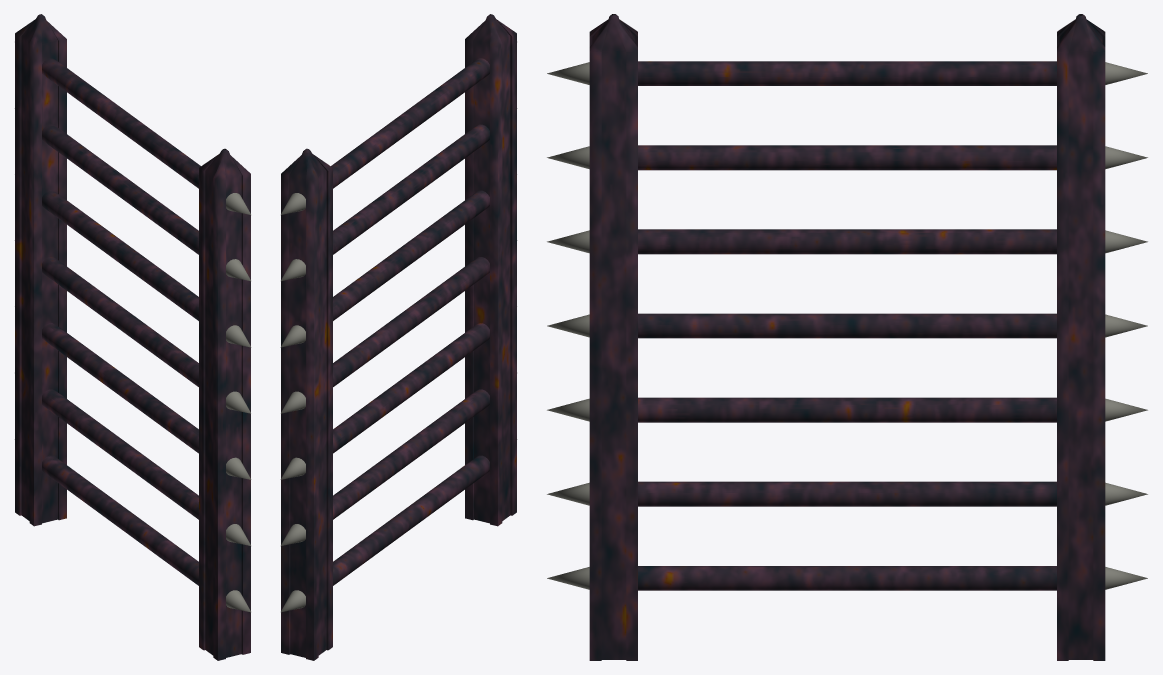
File: CA_015_iron_ladder.glb
The picture shows the model from 3 angles, left to right: view 1: azimuth 30°, elevation 25°; view 2: azimuth 150°, elevation 25°; view 3: azimuth 270°, elevation 25°; orthographic projection. The views are drawn at different scales.
Parts seen in each view (by area): view 1: ladder_support, ladder_bars, spikes; view 2: ladder_support, ladder_bars, spikes; view 3: ladder_bars, ladder_support, spikes.
Boxes of the visible parts, left/top/right/bottom form: ladder_support: left=15, top=14, right=250, bottom=660; ladder_bars: left=42, top=58, right=200, bottom=585; spikes: left=14, top=108, right=251, bottom=612; ladder_support: left=281, top=14, right=516, bottom=660; ladder_bars: left=331, top=58, right=489, bottom=585; spikes: left=280, top=108, right=517, bottom=612; ladder_bars: left=638, top=61, right=1056, bottom=590; ladder_support: left=589, top=14, right=1105, bottom=660; spikes: left=547, top=62, right=1147, bottom=589.
Size of the model in its own units: 0.18 by 2.62 by 2.25.
2 materials, 1 textured.
